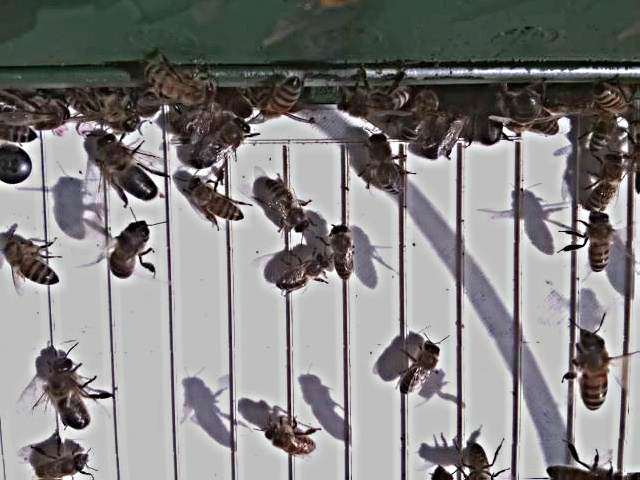Drone: (94, 131, 163, 206), (46, 350, 94, 434)
Worker: (186, 115, 254, 171), (0, 238, 63, 291), (577, 325, 611, 415), (583, 152, 630, 217), (270, 248, 333, 296), (187, 180, 250, 226), (257, 417, 322, 461), (111, 218, 154, 283), (398, 338, 446, 396), (362, 134, 405, 197), (264, 177, 313, 232), (586, 206, 616, 278), (33, 447, 96, 480), (332, 223, 358, 282)
